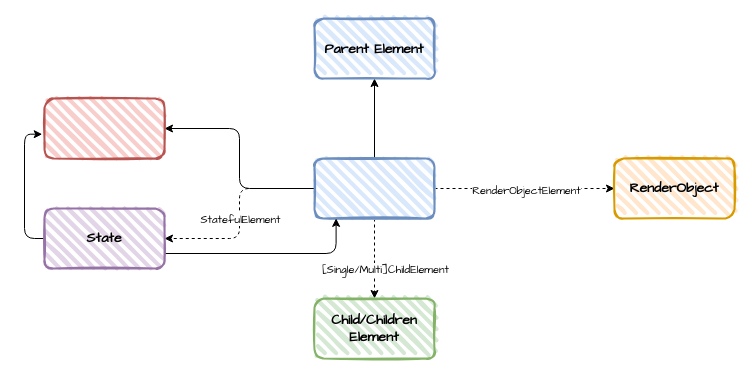
Image size: 753x376. Some labels were removed from this diagram. Here are the shapes that lost their labels. From the top down, the centre of each, then its label:
At [104,128]: "Widget".
At [374,188]: "Element".
